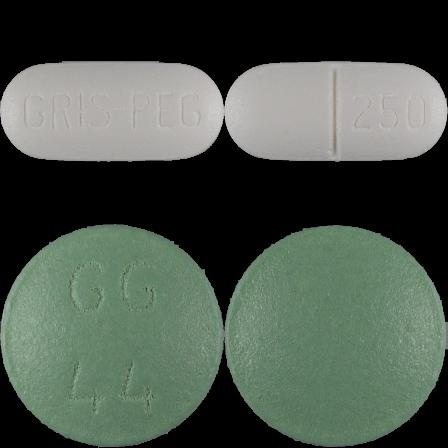0884-0773: (0, 0, 224, 224)
